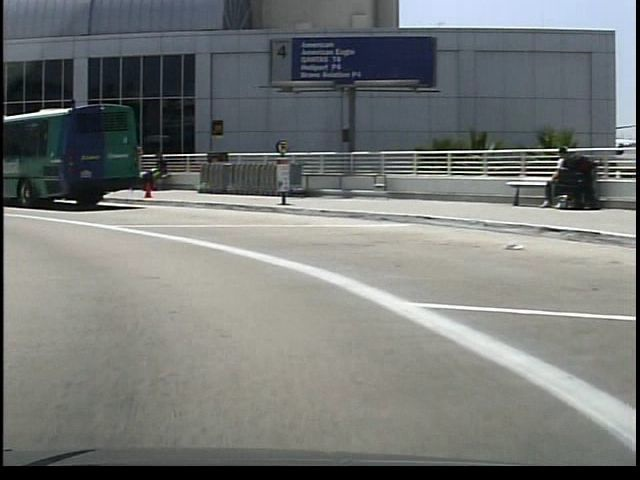person: (141, 148, 168, 195)
